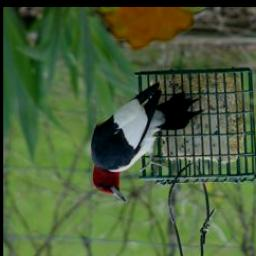Woodpecker: (92, 83, 205, 203)
